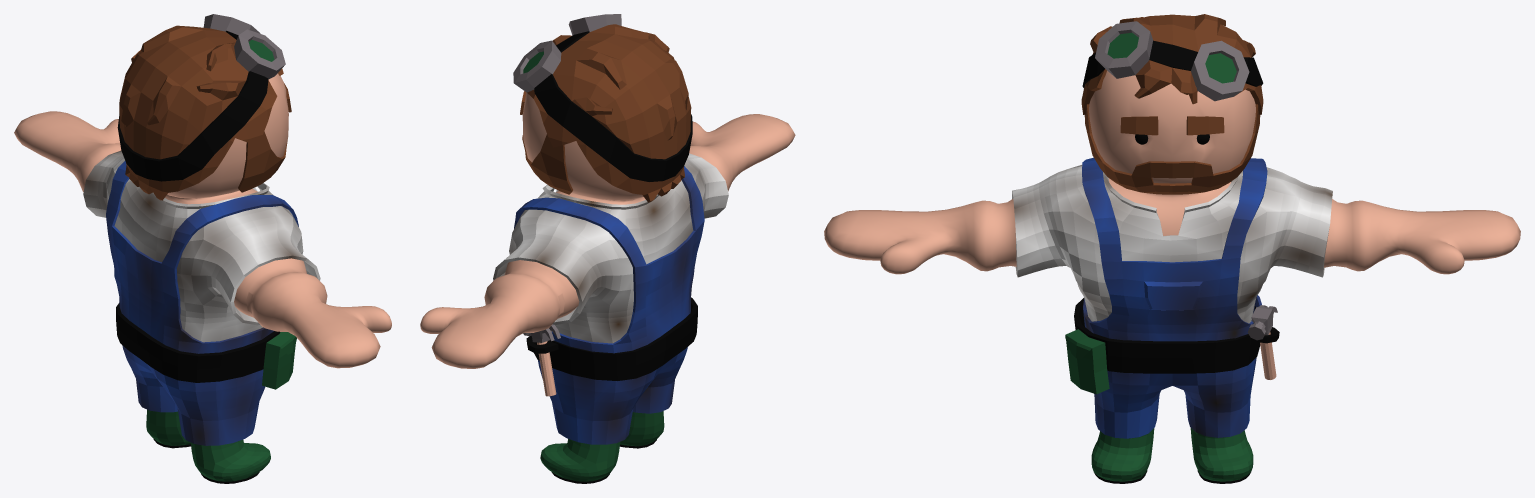
File: OvergrownCity_Characters_Engineer.fbx
The picture shows the model from 3 angles, left to right: view 1: azimuth 30°, elevation 25°; view 2: azimuth 150°, elevation 25°; view 3: azimuth 270°, elevation 25°; orthographic projection. The views are drawn at different scales.
Visible parts, largest first — view 1: Hair.001, Body.001, Overalls.001, Shirt.001, Belt.001, Boots.002, Beard.001, Boots.003; view 2: Hair.001, Body.001, Shirt.001, Overalls.001, Belt.001, Boots.003, Beard.001, Boots.002, Hammer.001; view 3: Body.001, Overalls.001, Shirt.001, Hair.001, Belt.001, Beard.001, Boots.003, Boots.002, Eyebrows.001, Hammer.001.
Part boxes in pixels (<box>): Hair.001: <box>117,14,285,200</box>; Body.001: <box>14,73,391,368</box>; Overalls.001: <box>106,161,298,445</box>; Shirt.001: <box>83,150,320,342</box>; Belt.001: <box>116,303,296,389</box>; Boots.002: <box>190,439,270,483</box>; Beard.001: <box>238,131,287,192</box>; Boots.003: <box>146,409,190,448</box>; Hair.001: <box>513,14,692,202</box>; Body.001: <box>420,92,795,368</box>; Shirt.001: <box>493,153,728,343</box>; Overalls.001: <box>514,166,704,444</box>; Belt.001: <box>526,297,697,380</box>; Boots.003: <box>540,439,620,483</box>; Beard.001: <box>522,134,572,194</box>; Boots.002: <box>619,411,664,448</box>; Hammer.001: <box>523,324,560,396</box>; Body.001: <box>824,70,1520,274</box>; Overalls.001: <box>1082,157,1267,438</box>; Shirt.001: <box>1012,165,1332,323</box>; Hair.001: <box>1081,14,1263,114</box>; Belt.001: <box>1065,298,1279,394</box>; Beard.001: <box>1084,104,1260,194</box>; Boots.003: <box>1190,428,1253,483</box>; Boots.002: <box>1091,428,1154,483</box>; Eyebrows.001: <box>1120,116,1224,135</box>; Hammer.001: <box>1247,305,1277,379</box>.
Size of the model in its own units: 47.88 by 132 by 182.
Materials: 7 (2 with a texture image).
